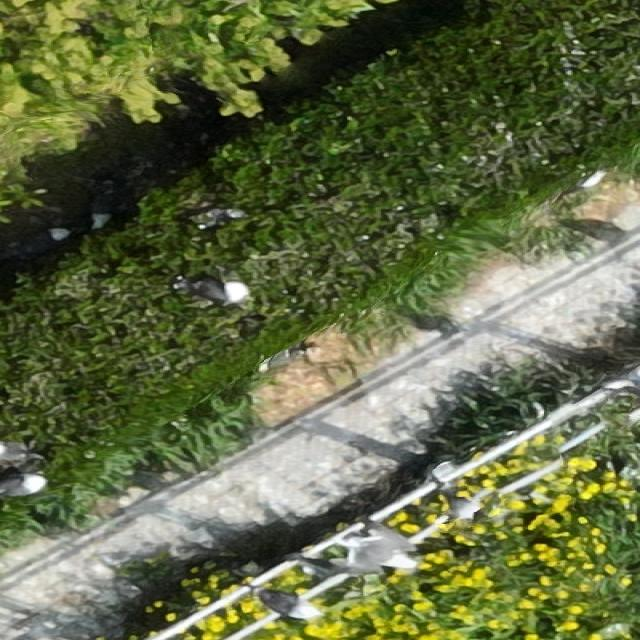F: (318, 531, 419, 576)
umineko: (260, 592, 320, 620), (92, 192, 121, 236), (185, 280, 235, 303), (22, 231, 60, 253), (1, 475, 40, 495), (0, 443, 32, 461)
